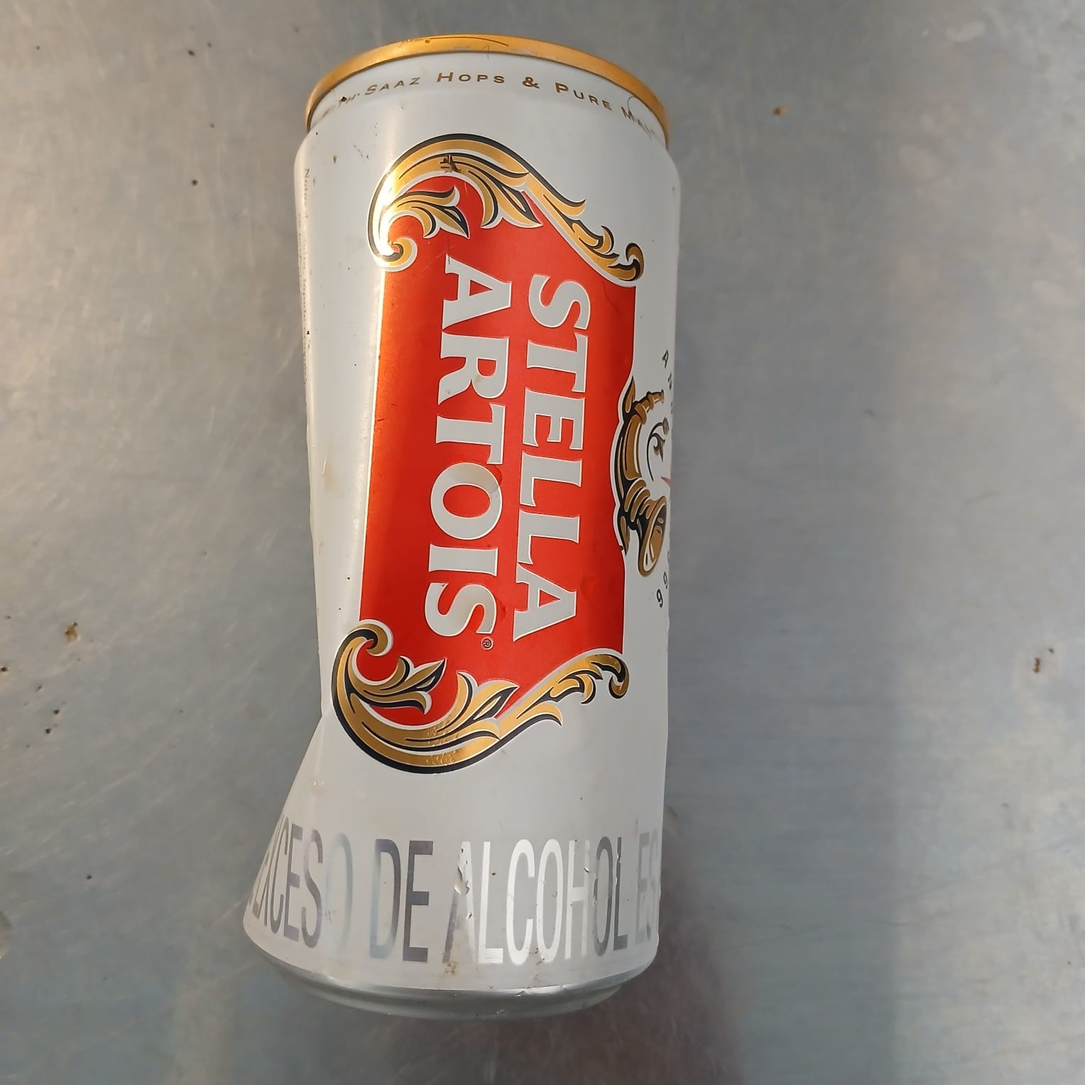Metal: (245, 31, 679, 1014)
